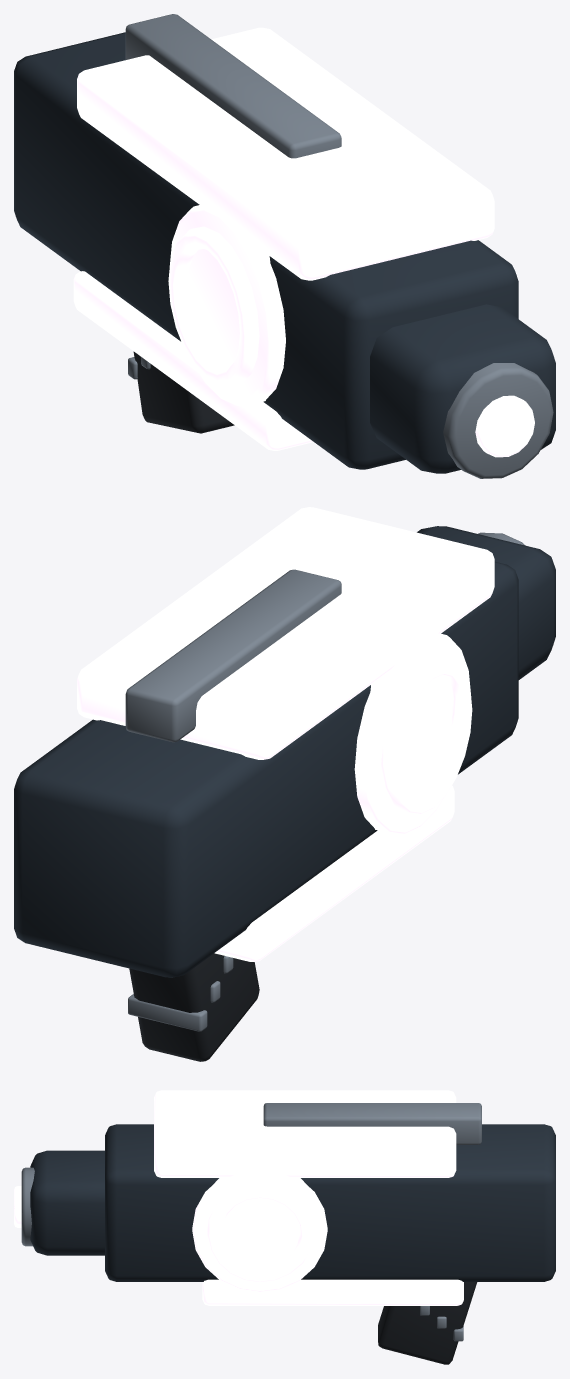
The model's file is Infiltrator_StealthSpinfusor.fbx.
3 renders of one model, top to bottom at view 1: azimuth 30°, elevation 25°; view 2: azimuth 150°, elevation 25°; view 3: azimuth 270°, elevation 25°, orthographic. The views are drawn at different scales.
Visible parts, largest first — view 1: Receiver.004, UpperArmor.002, SuppressorShroud, TopRail.004, EnergyChamber.002, LowerArmor.002, Muzzle.002, EnergyRingLeft.002, Grip.004, MuzzleGlow.002; view 2: Receiver.004, UpperArmor.002, TopRail.004, EnergyChamber.002, LowerArmor.002, Grip.004, EnergyRingLeft.002, SuppressorShroud, GripRib_03.004; view 3: Receiver.004, UpperArmor.002, EnergyChamber.002, SuppressorShroud, LowerArmor.002, TopRail.004, Grip.004, EnergyRingRight.002, Muzzle.002.
Part boxes in pixels (x1,y1,x2,y2): Receiver.004: [14, 32, 518, 469]; UpperArmor.002: [77, 27, 494, 280]; SuppressorShroud: [370, 304, 555, 473]; TopRail.004: [125, 14, 341, 158]; EnergyChamber.002: [169, 204, 285, 406]; LowerArmor.002: [73, 271, 313, 450]; Muzzle.002: [443, 363, 553, 478]; EnergyRingLeft.002: [168, 226, 259, 387]; Grip.004: [133, 351, 234, 433]; MuzzleGlow.002: [475, 395, 534, 457]; Receiver.004: [14, 561, 518, 977]; UpperArmor.002: [77, 507, 494, 759]; TopRail.004: [125, 569, 341, 742]; EnergyChamber.002: [354, 633, 471, 834]; LowerArmor.002: [214, 785, 454, 961]; Grip.004: [129, 953, 259, 1061]; EnergyRingLeft.002: [381, 655, 472, 816]; SuppressorShroud: [417, 526, 555, 679]; GripRib_03.004: [128, 994, 207, 1031]; Receiver.004: [105, 1124, 555, 1281]; UpperArmor.002: [154, 1090, 456, 1177]; EnergyChamber.002: [192, 1170, 327, 1292]; SuppressorShroud: [30, 1150, 104, 1255]; LowerArmor.002: [202, 1279, 463, 1305]; TopRail.004: [263, 1103, 481, 1144]; Grip.004: [378, 1282, 477, 1364]; EnergyRingRight.002: [206, 1185, 313, 1282]; Muzzle.002: [21, 1167, 34, 1246].
Bounding box in the file's own units: 122 × 193 × 385.
